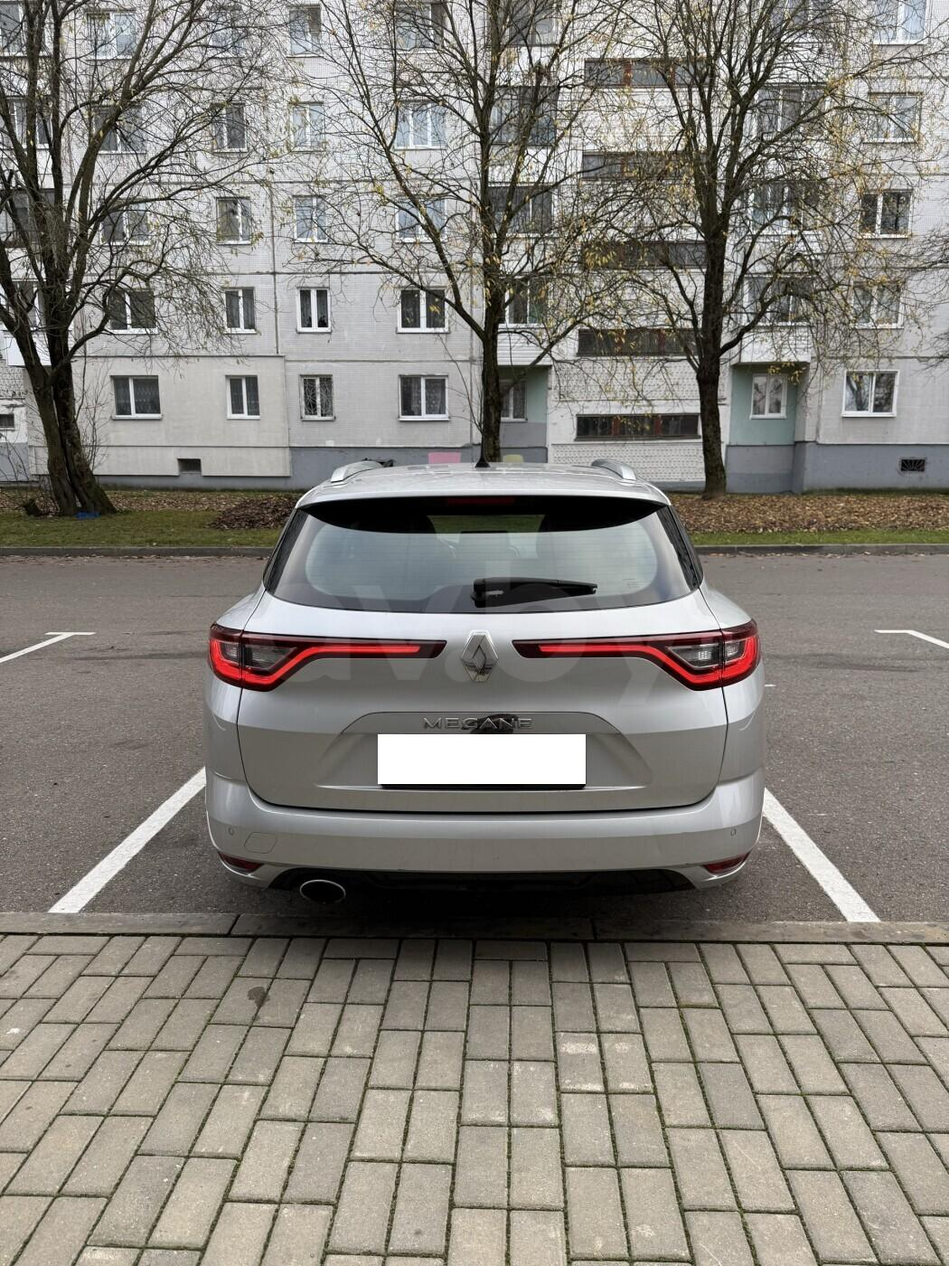Megane_2016-2020: (202, 452, 772, 926)
